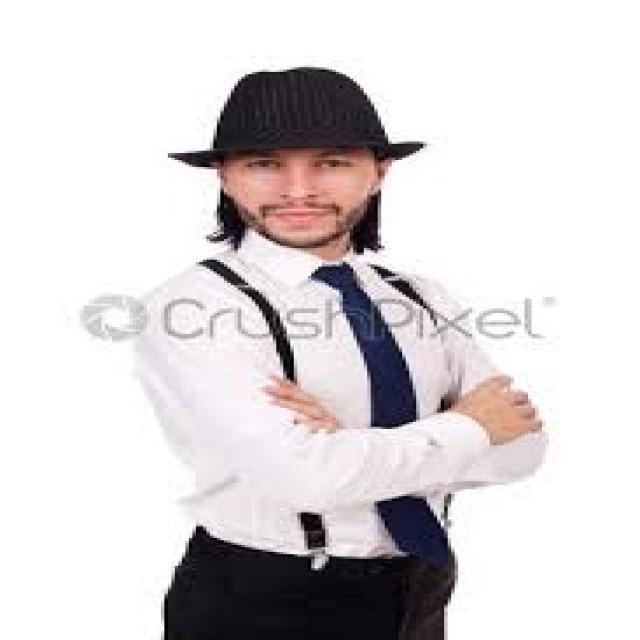hat: (171, 65, 427, 246)
